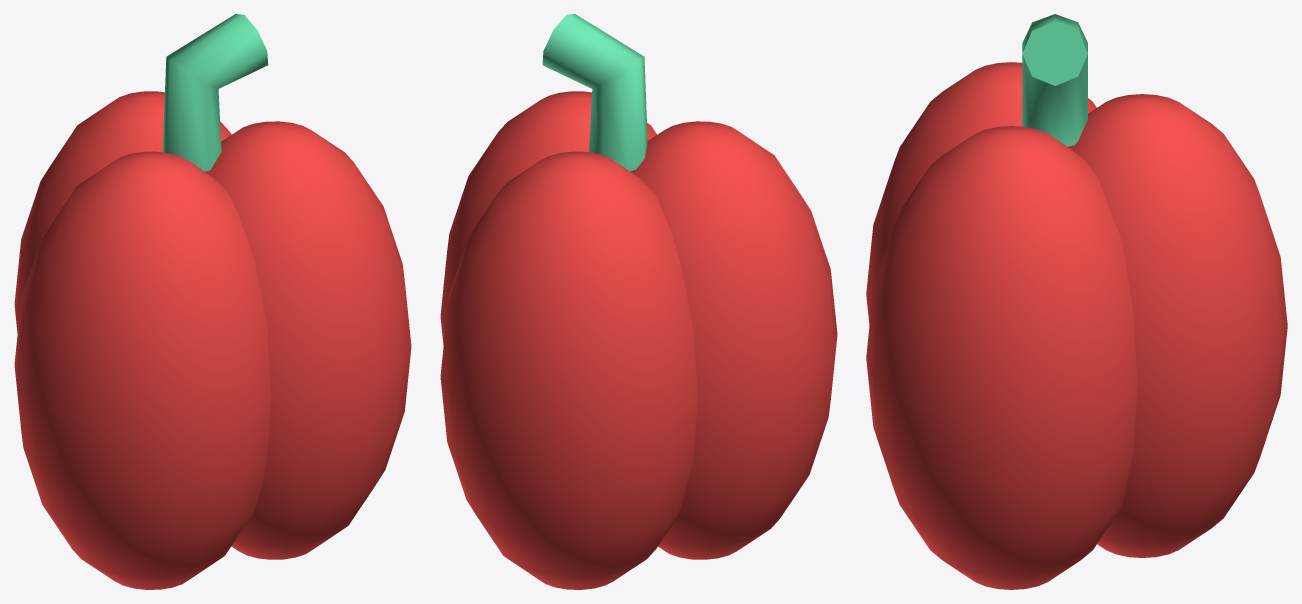
The model's file is bellpepper.glb.
3 renders of one model, left to right at view 1: azimuth 30°, elevation 25°; view 2: azimuth 150°, elevation 25°; view 3: azimuth 270°, elevation 25°, orthographic. The views are drawn at different scales.
Parts seen in each view (by area): view 1: bellpepper; view 2: bellpepper; view 3: bellpepper.
Boxes of the visible parts, x1,y1,x2,y2 form: bellpepper: (14,14,411,589); bellpepper: (440,14,837,589); bellpepper: (866,14,1287,589).
Bounding box in the file's own units: 0.721 × 1 × 0.6879.
1 material, 1 textured.
